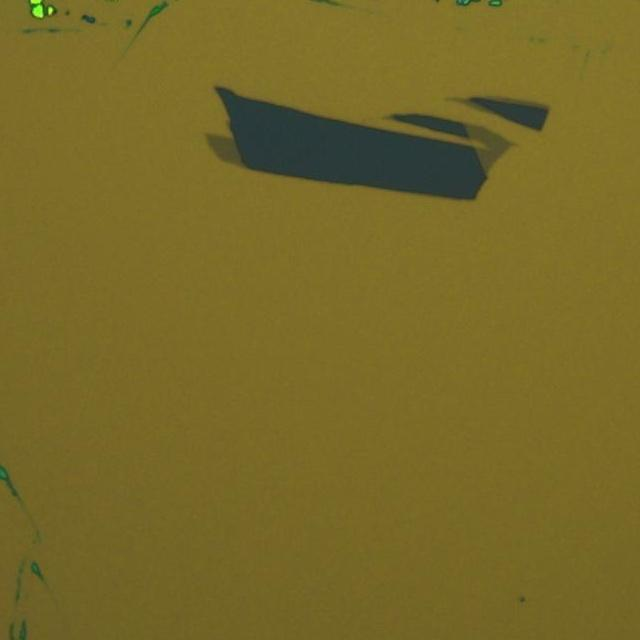monolayer-eWW4: (464, 120, 520, 177), (202, 130, 245, 166)
